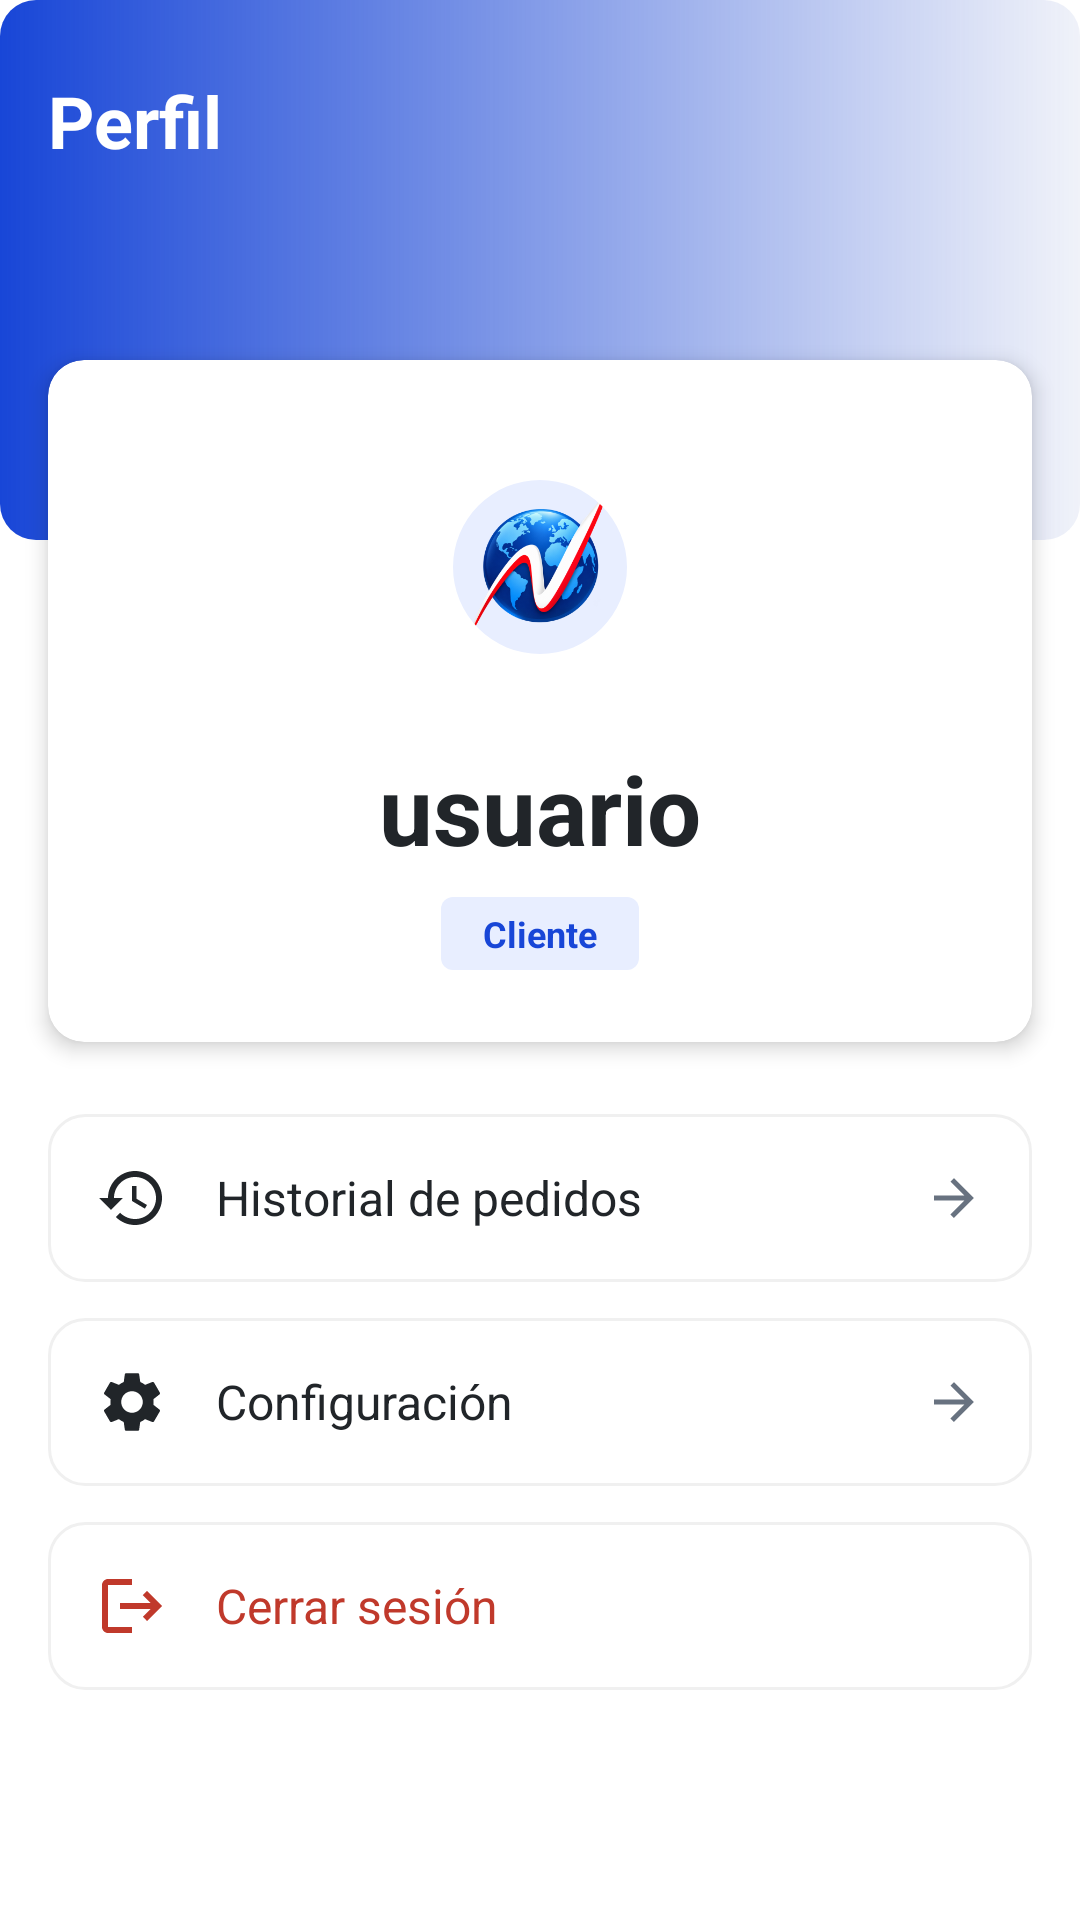

Screen size 1080px x 1920px. Icon name, then its center in pixels as (x,y):
order history: (130,1198)
settings: (132,1402)
